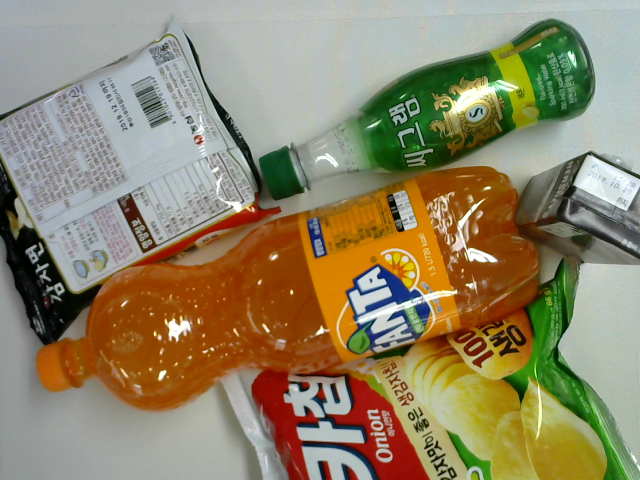Hush_Choco_Drink: (514, 150, 640, 266)
Hwanta_Orange_1.5L: (35, 165, 543, 414)
Pocachip_Onion: (218, 254, 640, 479)
Potato: (1, 12, 283, 347)
Seagram_Lemon_Carbonated_Water: (257, 16, 599, 202)
